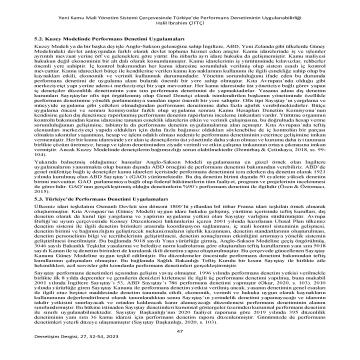header: (54, 12, 303, 29)
